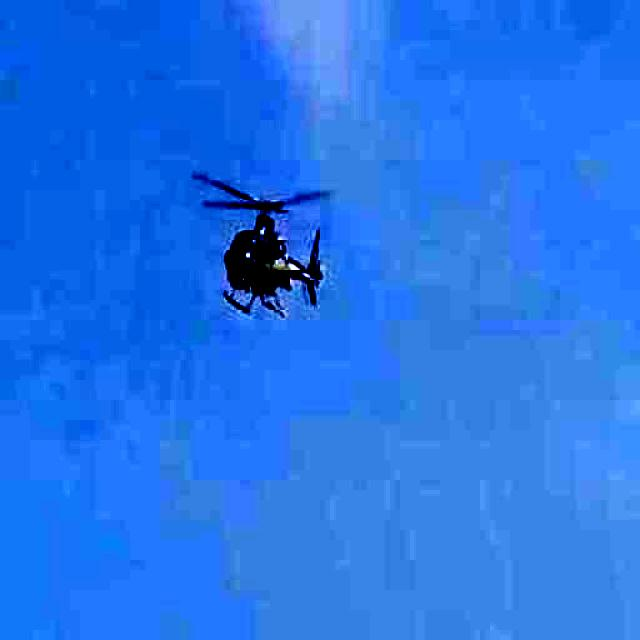drone: (138, 152, 366, 345)
